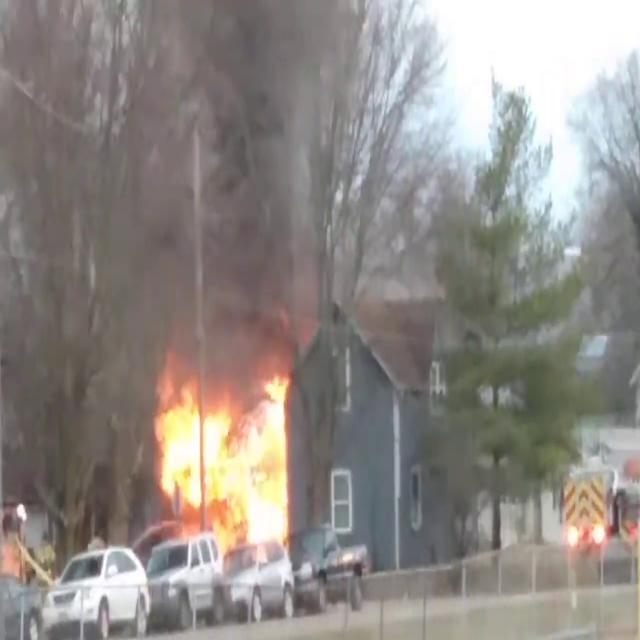Fire: (148, 370, 298, 552)
Smoke: (68, 0, 366, 382)
